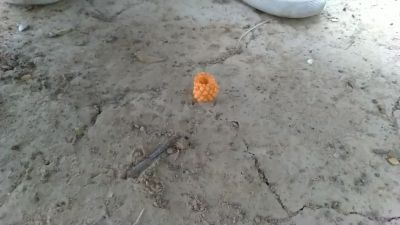eggs: (195, 70, 218, 106)
